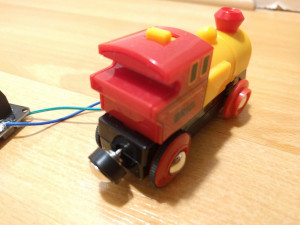brio: (87, 6, 253, 188)
